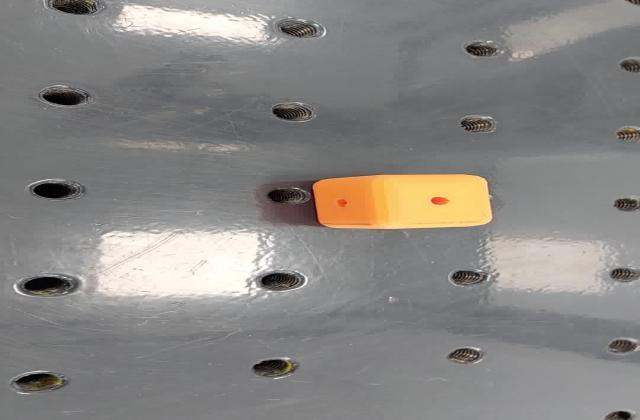cube: (305, 172, 496, 232)
